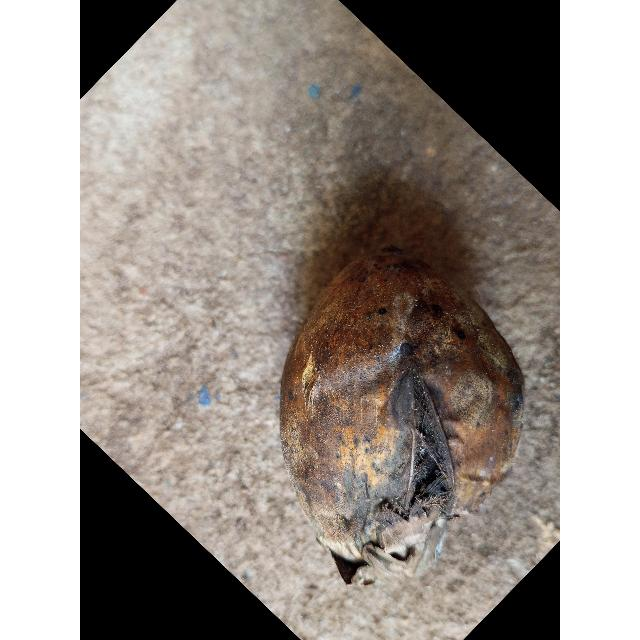damaged: (280, 252, 524, 584)
